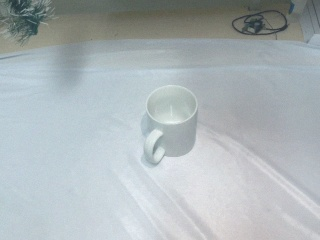cup: (140, 84, 200, 166)
